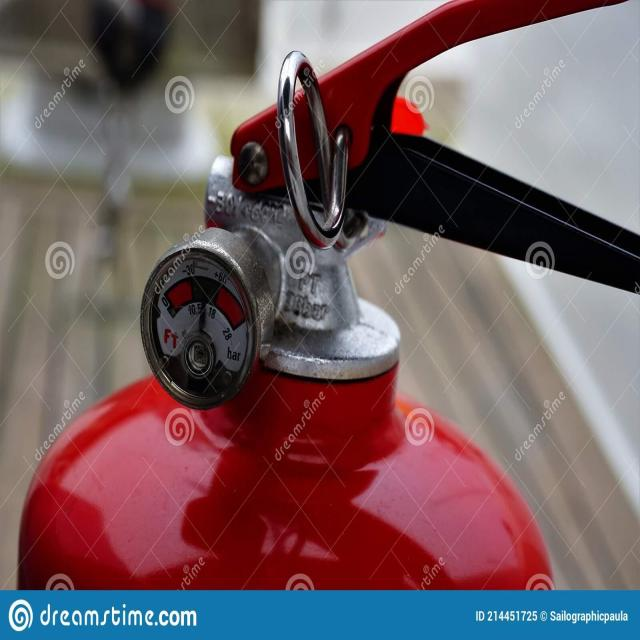fire_extinguisher: (13, 0, 640, 592)
